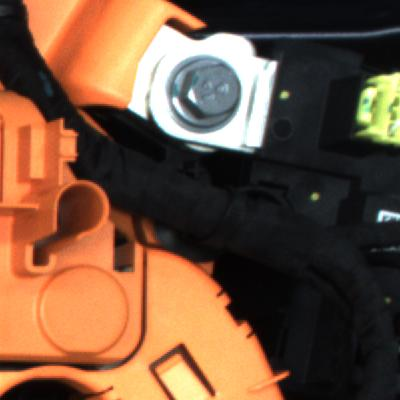nut_b: (163, 48, 255, 136)
